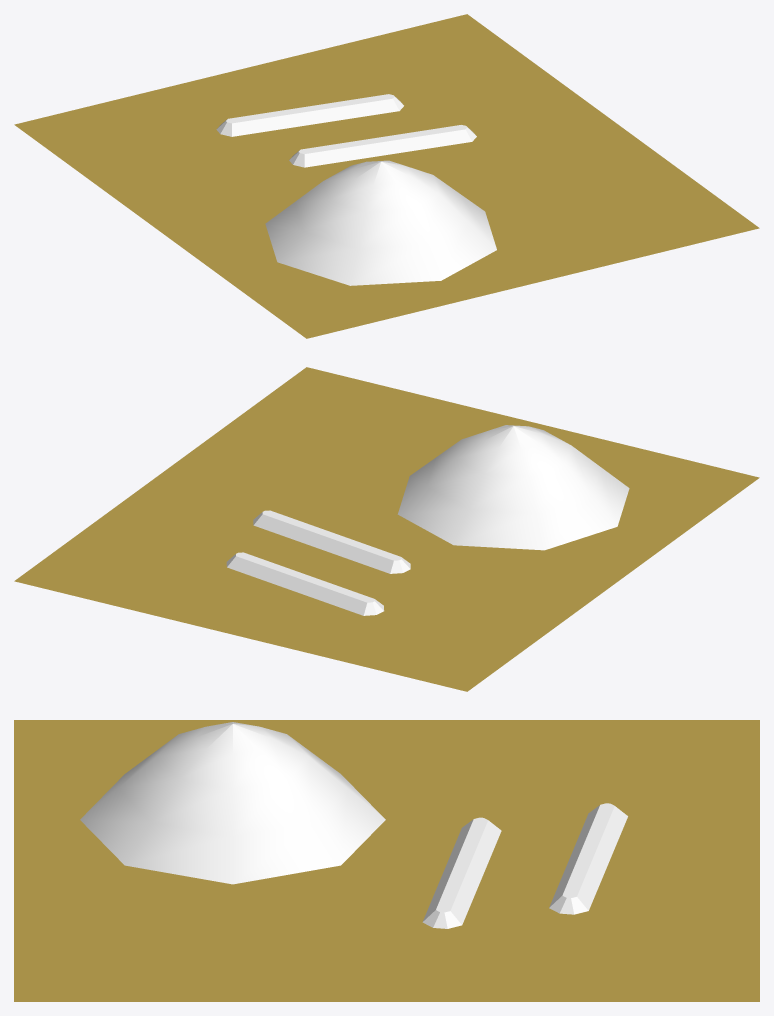
The model's file is Cocaine.FBX.
The picture shows the model from 3 angles, top to bottom: view 1: azimuth 30°, elevation 25°; view 2: azimuth 150°, elevation 25°; view 3: azimuth 270°, elevation 25°; orthographic projection. The views are drawn at different scales.
Visible parts, largest first — view 1: Plane001, Cone001, Box002, Box001; view 2: Plane001, Cone001, Box001, Box002; view 3: Plane001, Cone001, Box002, Box001.
Part boxes in pixels (box(x1,y1,x2,y2)): Plane001: box(14, 14, 759, 338); Cone001: box(265, 160, 496, 285); Box002: box(216, 94, 403, 136); Box001: box(289, 125, 476, 167); Plane001: box(14, 367, 759, 691); Cone001: box(397, 425, 629, 550); Box001: box(253, 510, 410, 573); Box002: box(226, 552, 384, 615); Plane001: box(14, 720, 759, 1001); Cone001: box(80, 722, 385, 884); Box002: box(549, 803, 627, 914); Box001: box(422, 817, 501, 928).
Size of the model in its own units: 11.88 by 1.89 by 13.29.
